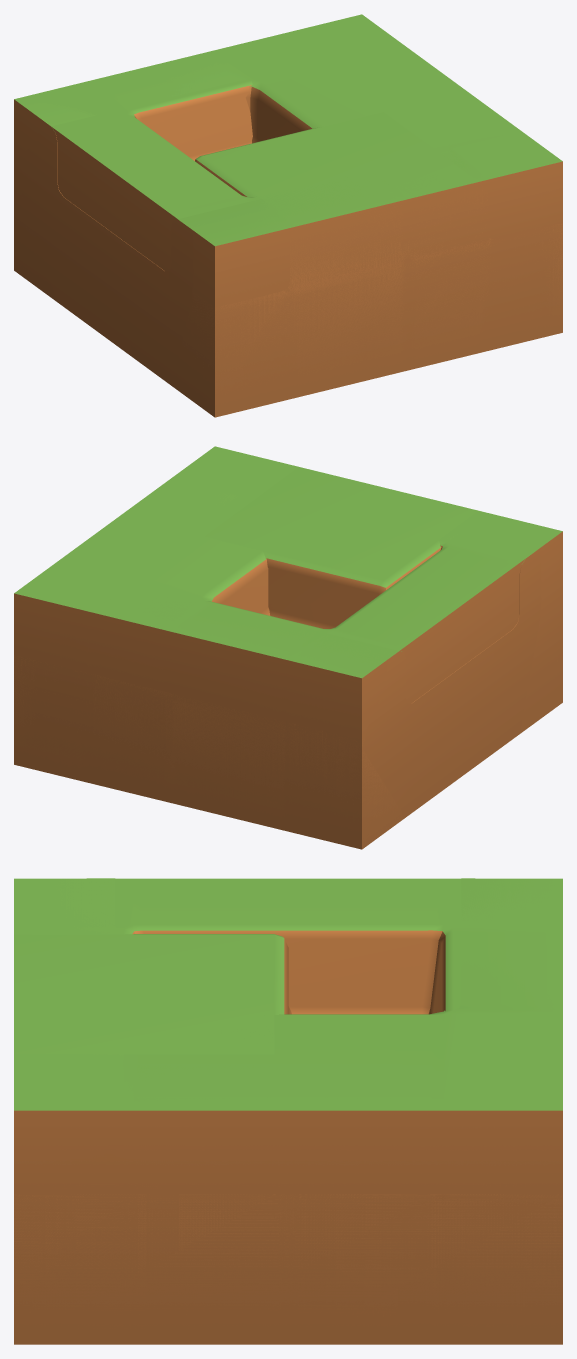
The model's file is Tiles2.fbx.
3 views of the same model, one above another, from view 1: azimuth 30°, elevation 25°; view 2: azimuth 150°, elevation 25°; view 3: azimuth 270°, elevation 25° (orthographic). The views are drawn at different scales.
Visible parts, largest first — view 1: Tile_cap, Tile_hole, Tile_cap2; view 2: Tile_cap, Tile_hole, Tile_cap2; view 3: Tile_cap, Tile_hole, Tile_cap2.
Part boxes in pixels (x1,y1,x2,y2): Tile_cap: (14, 14, 562, 417); Tile_hole: (14, 15, 562, 417); Tile_cap2: (15, 112, 562, 416); Tile_cap: (14, 446, 562, 849); Tile_hole: (14, 446, 562, 848); Tile_cap2: (14, 467, 478, 848); Tile_cap: (14, 878, 562, 1344); Tile_hole: (14, 878, 562, 1344); Tile_cap2: (14, 934, 562, 1344).
Size of the model in its own units: 100 by 47.03 by 100.
